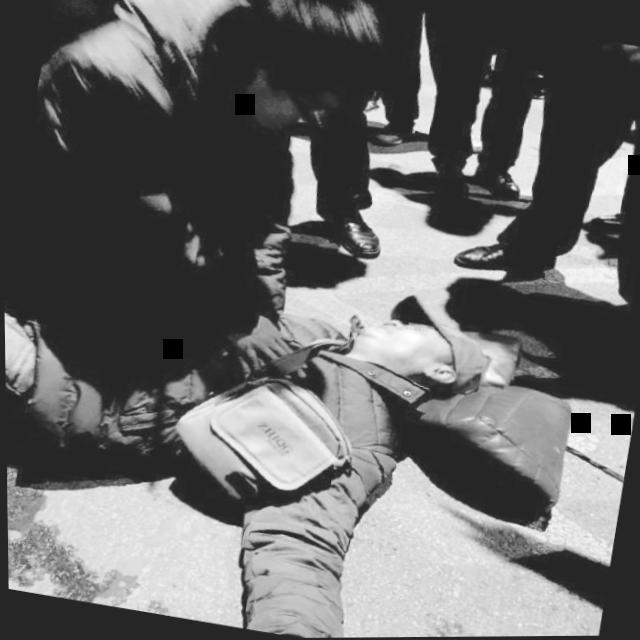Fall-Detected: (3, 223, 624, 640)
